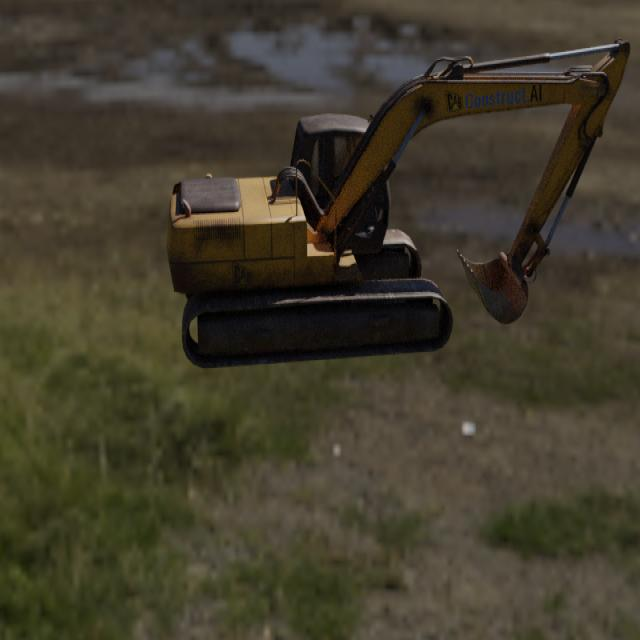excavator: (166, 37, 630, 368)
